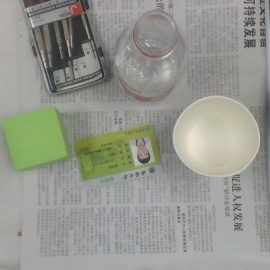bottle: (112, 10, 186, 104)
card: (75, 124, 164, 188)
cup: (171, 96, 260, 178)
